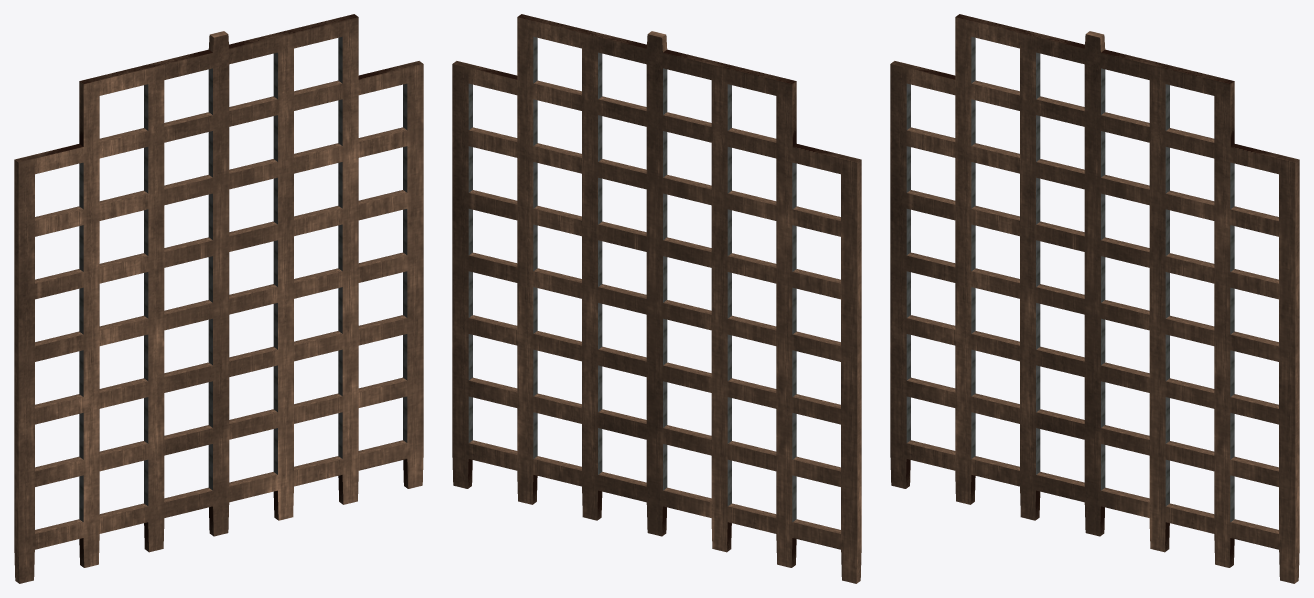
Rendered from PR_Grille_Cour.fbx.
3 views of the same model, side by side, from view 1: azimuth 30°, elevation 25°; view 2: azimuth 150°, elevation 25°; view 3: azimuth 330°, elevation 25° (orthographic).
Visible parts, largest first — view 1: PR_Grille; view 2: PR_Grille; view 3: PR_Grille.
Boxes of the visible parts, x1,y1,x2,y2 form: PR_Grille: (14, 14, 423, 583); PR_Grille: (452, 14, 861, 583); PR_Grille: (890, 14, 1299, 583).
Size of the model in its own units: 271 by 319 by 5.
